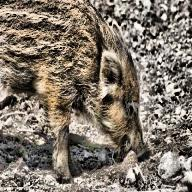boar: (1, 0, 164, 188)
